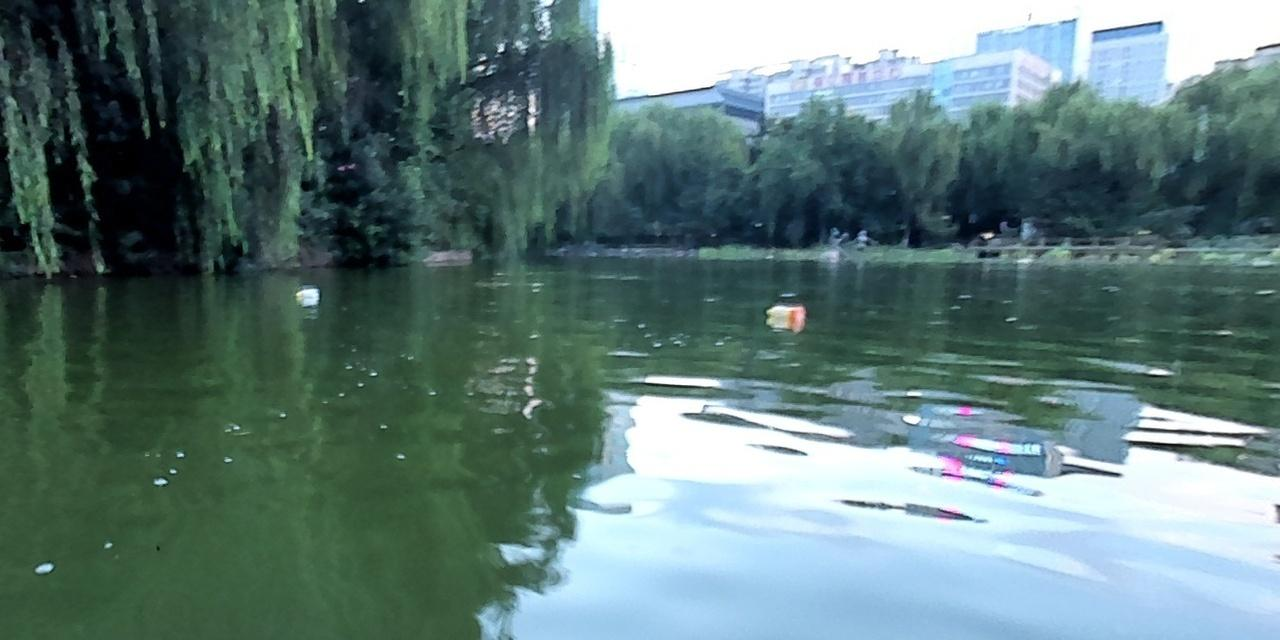bottle: (763, 302, 803, 321), (293, 287, 319, 297)
